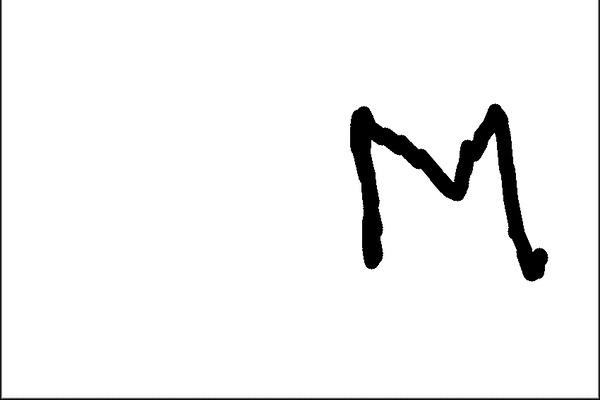M: (345, 101, 550, 288)
